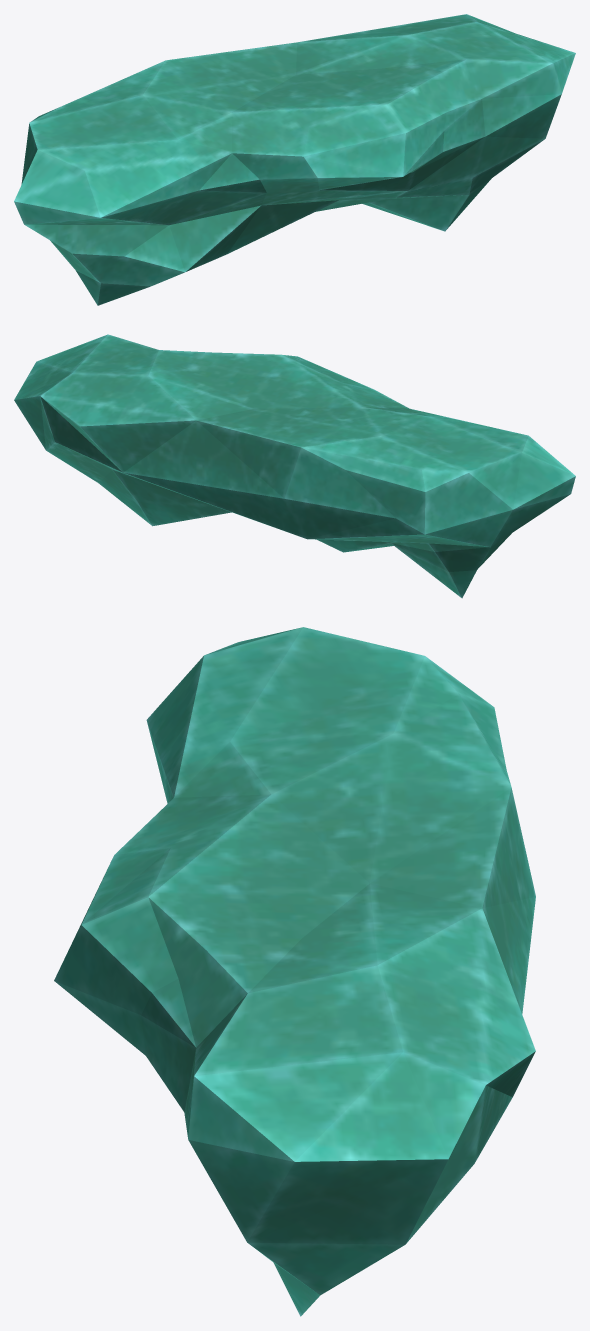
File: cliffjump.obj
The picture shows the model from 3 angles, top to bottom: view 1: azimuth 30°, elevation 25°; view 2: azimuth 150°, elevation 25°; view 3: azimuth 270°, elevation 25°; orthographic projection. The views are drawn at different scales.
Visible parts, largest first — view 1: DiamondCliffJump; view 2: DiamondCliffJump; view 3: DiamondCliffJump.
Boxes of the visible parts, x1,y1,x2,y2 form: DiamondCliffJump: [14, 14, 575, 305]; DiamondCliffJump: [14, 334, 575, 598]; DiamondCliffJump: [54, 627, 535, 1316].
Size of the model in its own units: 1.64 by 0.5043 by 0.6527.
1 material, 1 textured.
